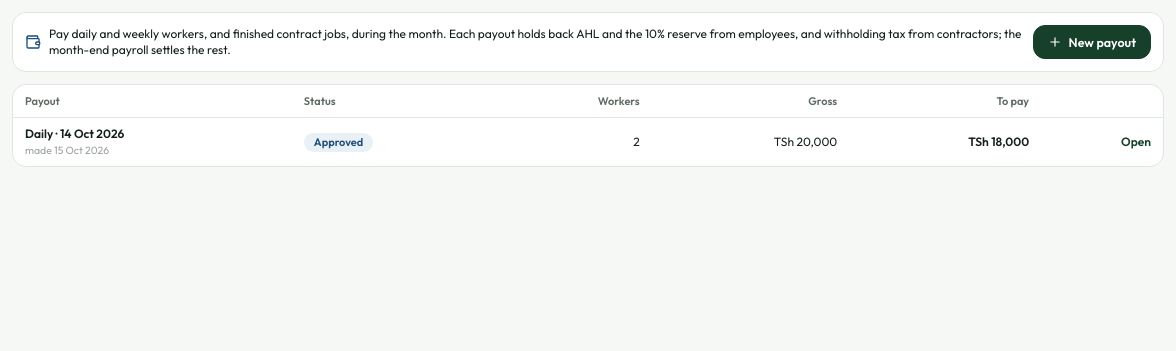
it: a company paying people in more than one country (FIG-905) › shows a Tanzania payout in TSh, with the bank file only (M-Pesa and Equity files are Kenya's)
This screenshot has width=1176, height=351.
Expected: the text "TSh 18,000" is shown, [849,118,1041,166]
Click the button with aria-label "Open Daily payout" at (1136, 142), box [1121,134,1151,150]
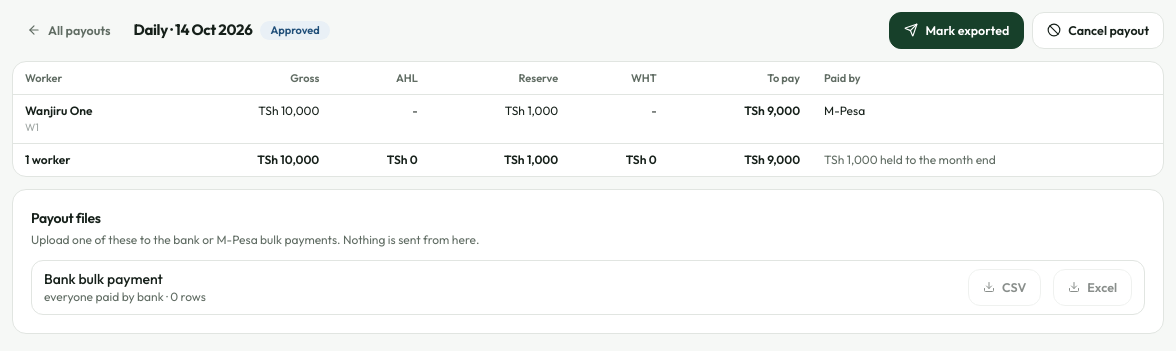
Expected: the cell named "Wanjiru One to pay" reads "TSh 9,000", [744,103,800,118]
Expected: the button with aria-label "Bank bulk payment CSV" is shown, [968,269,1041,306]
